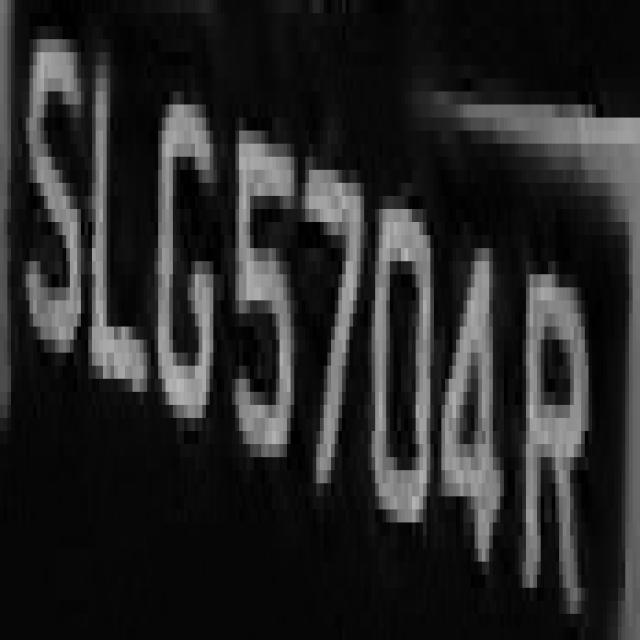0: (353, 156, 445, 548)
4: (442, 157, 508, 601)
5: (221, 91, 305, 548)
7: (298, 105, 360, 522)
G: (158, 39, 224, 497)
L: (78, 13, 154, 483)
R: (508, 209, 592, 640)
S: (19, 0, 84, 405)
